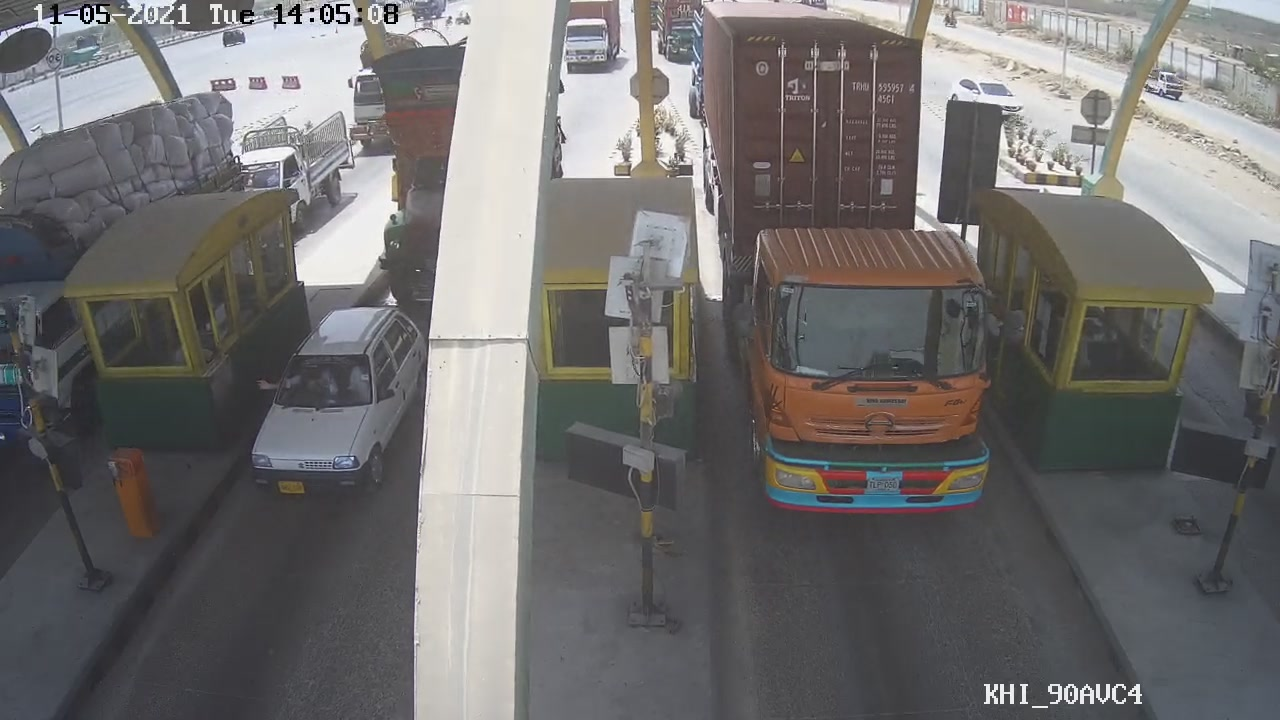F6: (698, 44, 1012, 517)
